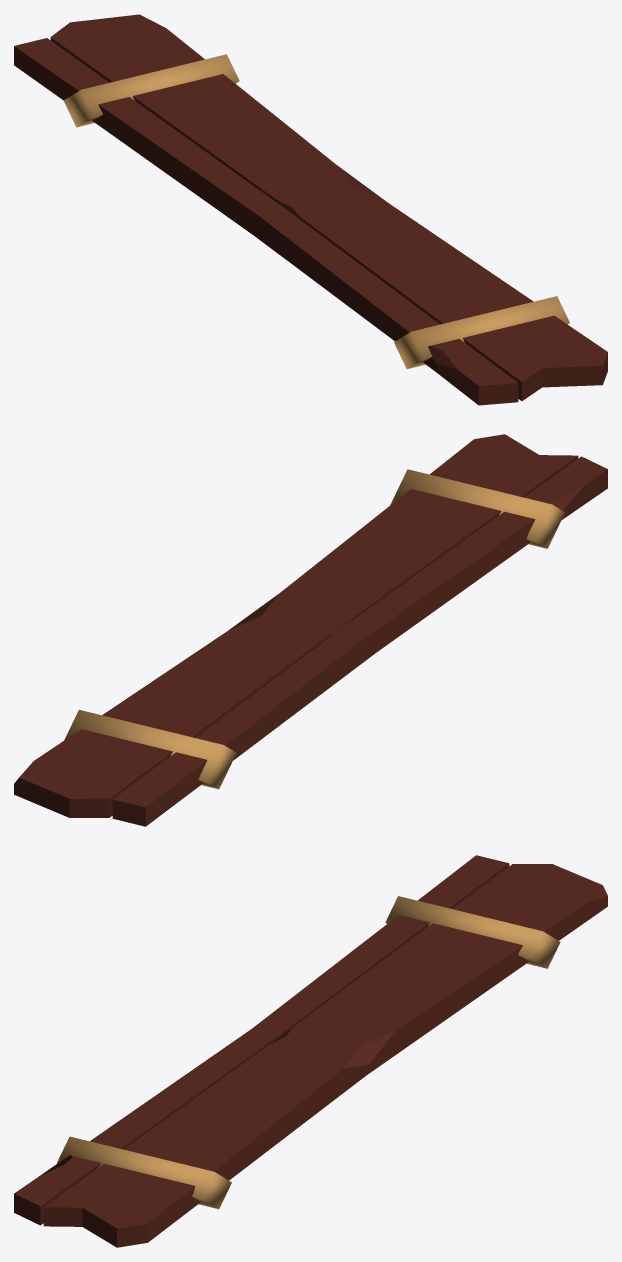
The model's file is SM_Bridge_Plank_B.fbx.
3 renders of one model, top to bottom at view 1: azimuth 30°, elevation 25°; view 2: azimuth 150°, elevation 25°; view 3: azimuth 330°, elevation 25°, orthographic.
Visible parts, largest first — view 1: SM_Plank_B.001; view 2: SM_Plank_B.001; view 3: SM_Plank_B.001.
Part boxes in pixels (<box>): SM_Plank_B.001: <box>14,14,607,405</box>; SM_Plank_B.001: <box>14,434,607,826</box>; SM_Plank_B.001: <box>14,855,607,1247</box>.
Bounding box in the file's own units: 157 × 905 × 42.46.
